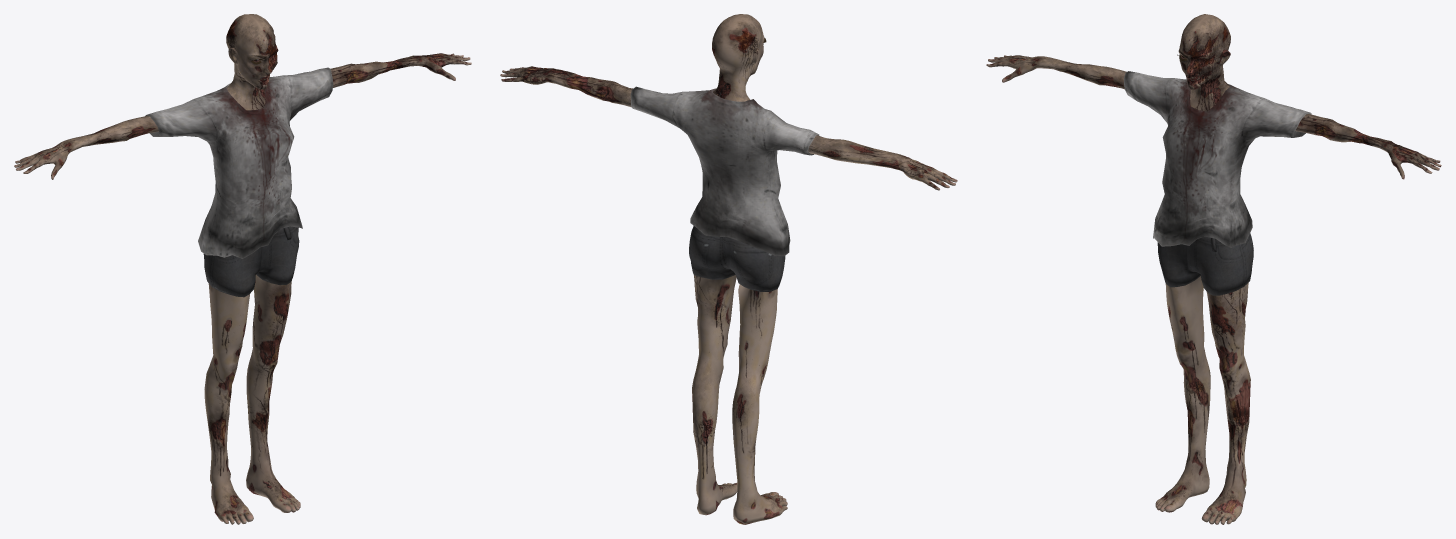
The model's file is zombie_woman.glb.
3 views of the same model, side by side, from view 1: azimuth 30°, elevation 25°; view 2: azimuth 150°, elevation 25°; view 3: azimuth 330°, elevation 25° (orthographic).
Visible parts, largest first — view 1: Object_2, Object_3; view 2: Object_2, Object_3; view 3: Object_2, Object_3.
Part boxes in pixels (<box>): Object_2: <box>14,14,471,524</box>; Object_3: <box>145,67,333,297</box>; Object_2: <box>500,14,957,524</box>; Object_3: <box>630,86,819,291</box>; Object_2: <box>986,14,1441,524</box>; Object_3: <box>1124,71,1311,295</box>.
Bounding box in the file's own units: 167 × 173 × 25.04.
2 materials, 2 textured.
